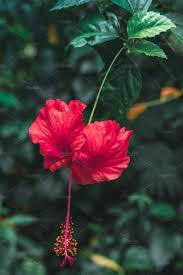hybiscus: (21, 93, 132, 268)
